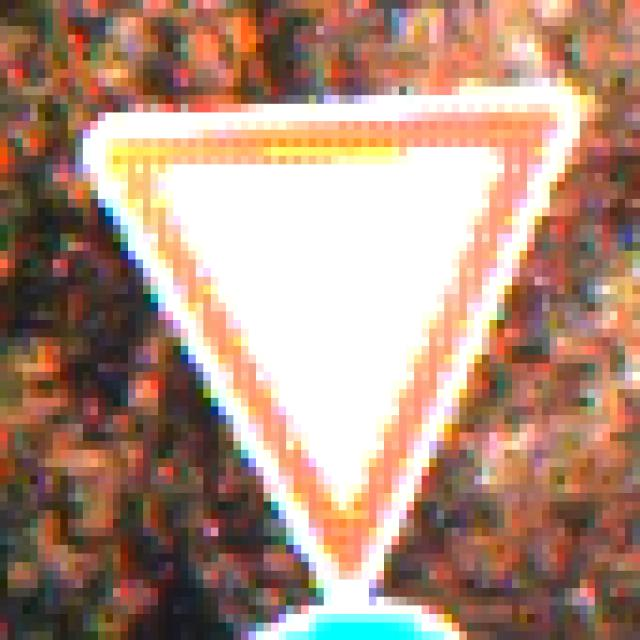Give Way: (62, 53, 589, 589)
